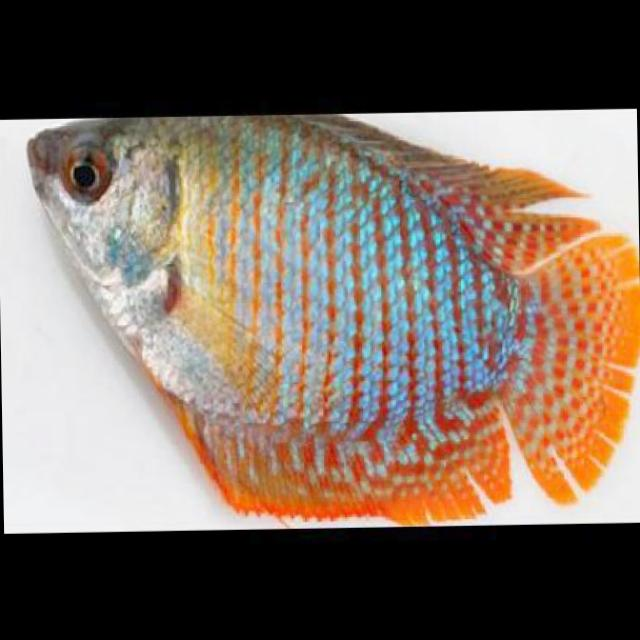Gourami: (26, 105, 640, 534)
